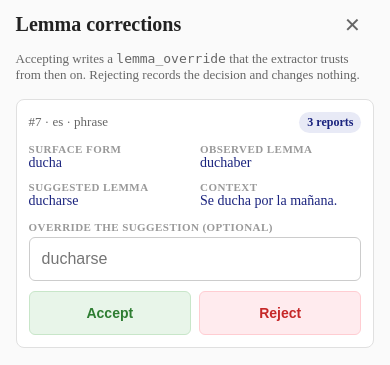
AdminLemmaQueuePage › accept hits the accept endpoint and updates the row in place
The image size is (390, 365).
What coordinates should you click on to do the following:
click the button with test id "lemma-accept-7"
I would click on:
 (110, 313)
Its box is [29, 291, 191, 335].
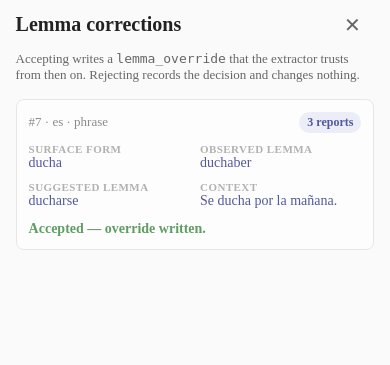
Now the text with test id "lemma-status-7" shows "Accepted", box [29, 221, 206, 236]
Now the button with test id "lemma-accept-7" is gone
